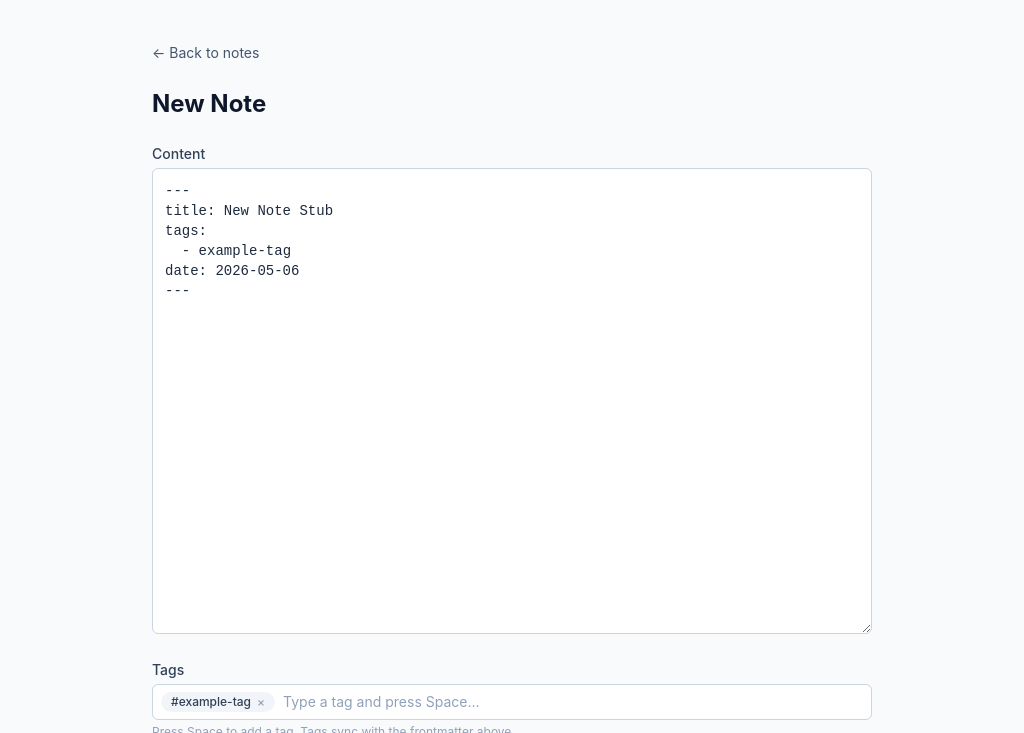
NewNotePage component › resets the form after successful save
// Add a custom tag first
In the field with placeholder "Type a tag and press Space…": (573, 702) [283,692,863,712], type "custom"
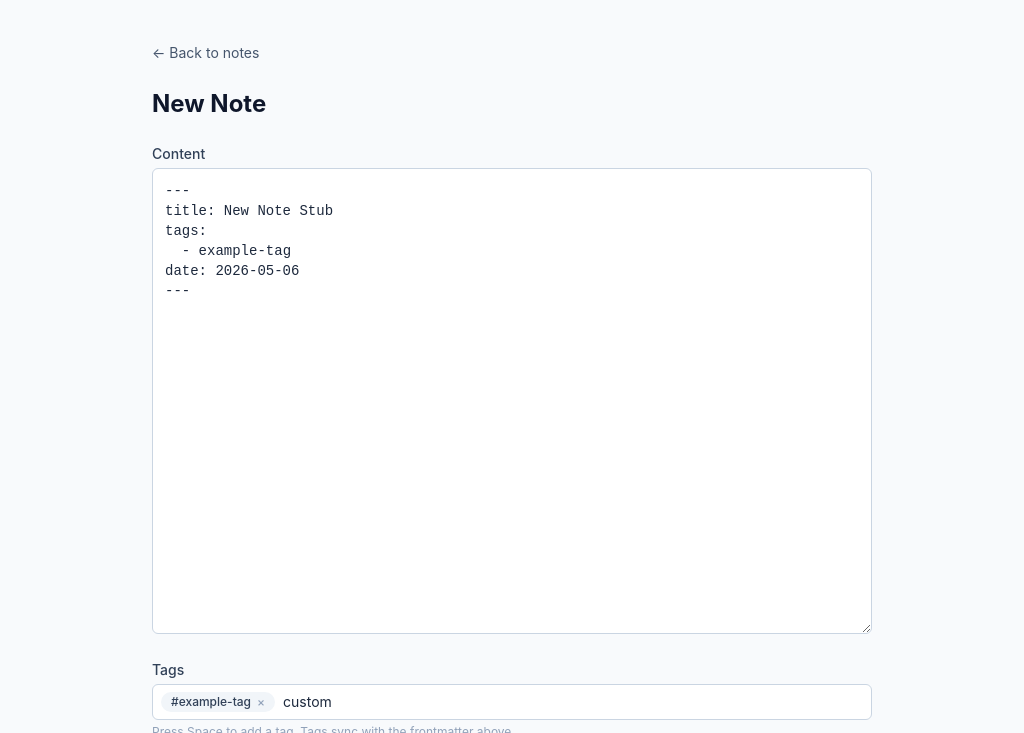
Press Space in the field with placeholder "Type a tag and press Space…", box [283,692,863,712]
(page scrolled)
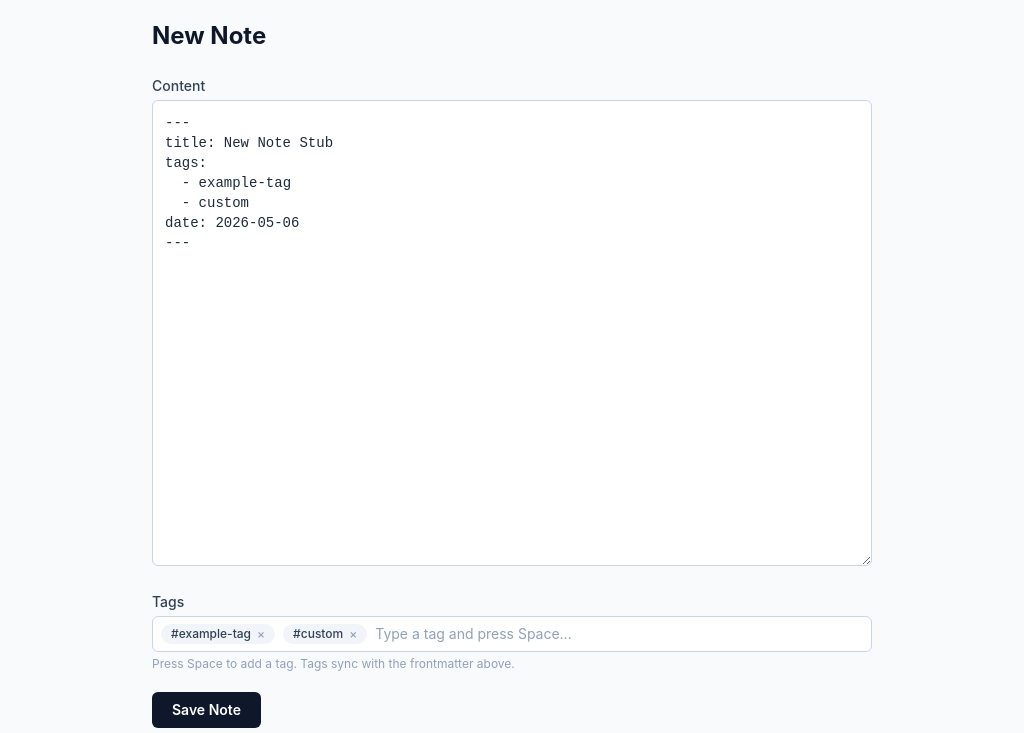
Now the text "#custom" is shown, box [283,624,367,644]
Click the button "Save Note": (206, 710) [152,692,261,728]
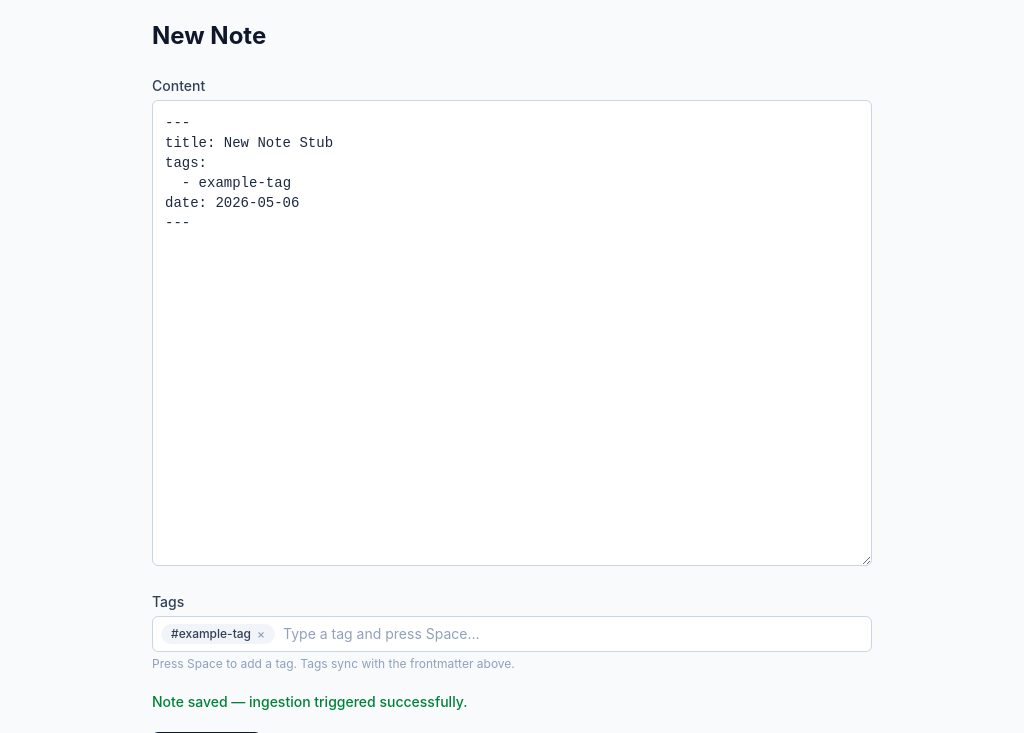
Expected: the text "#example-tag" is shown, [161,624,275,644]
Now the text "Note saved — ingestion triggered successfully." is shown, box [152,693,468,710]
Now the text "#custom" is gone
